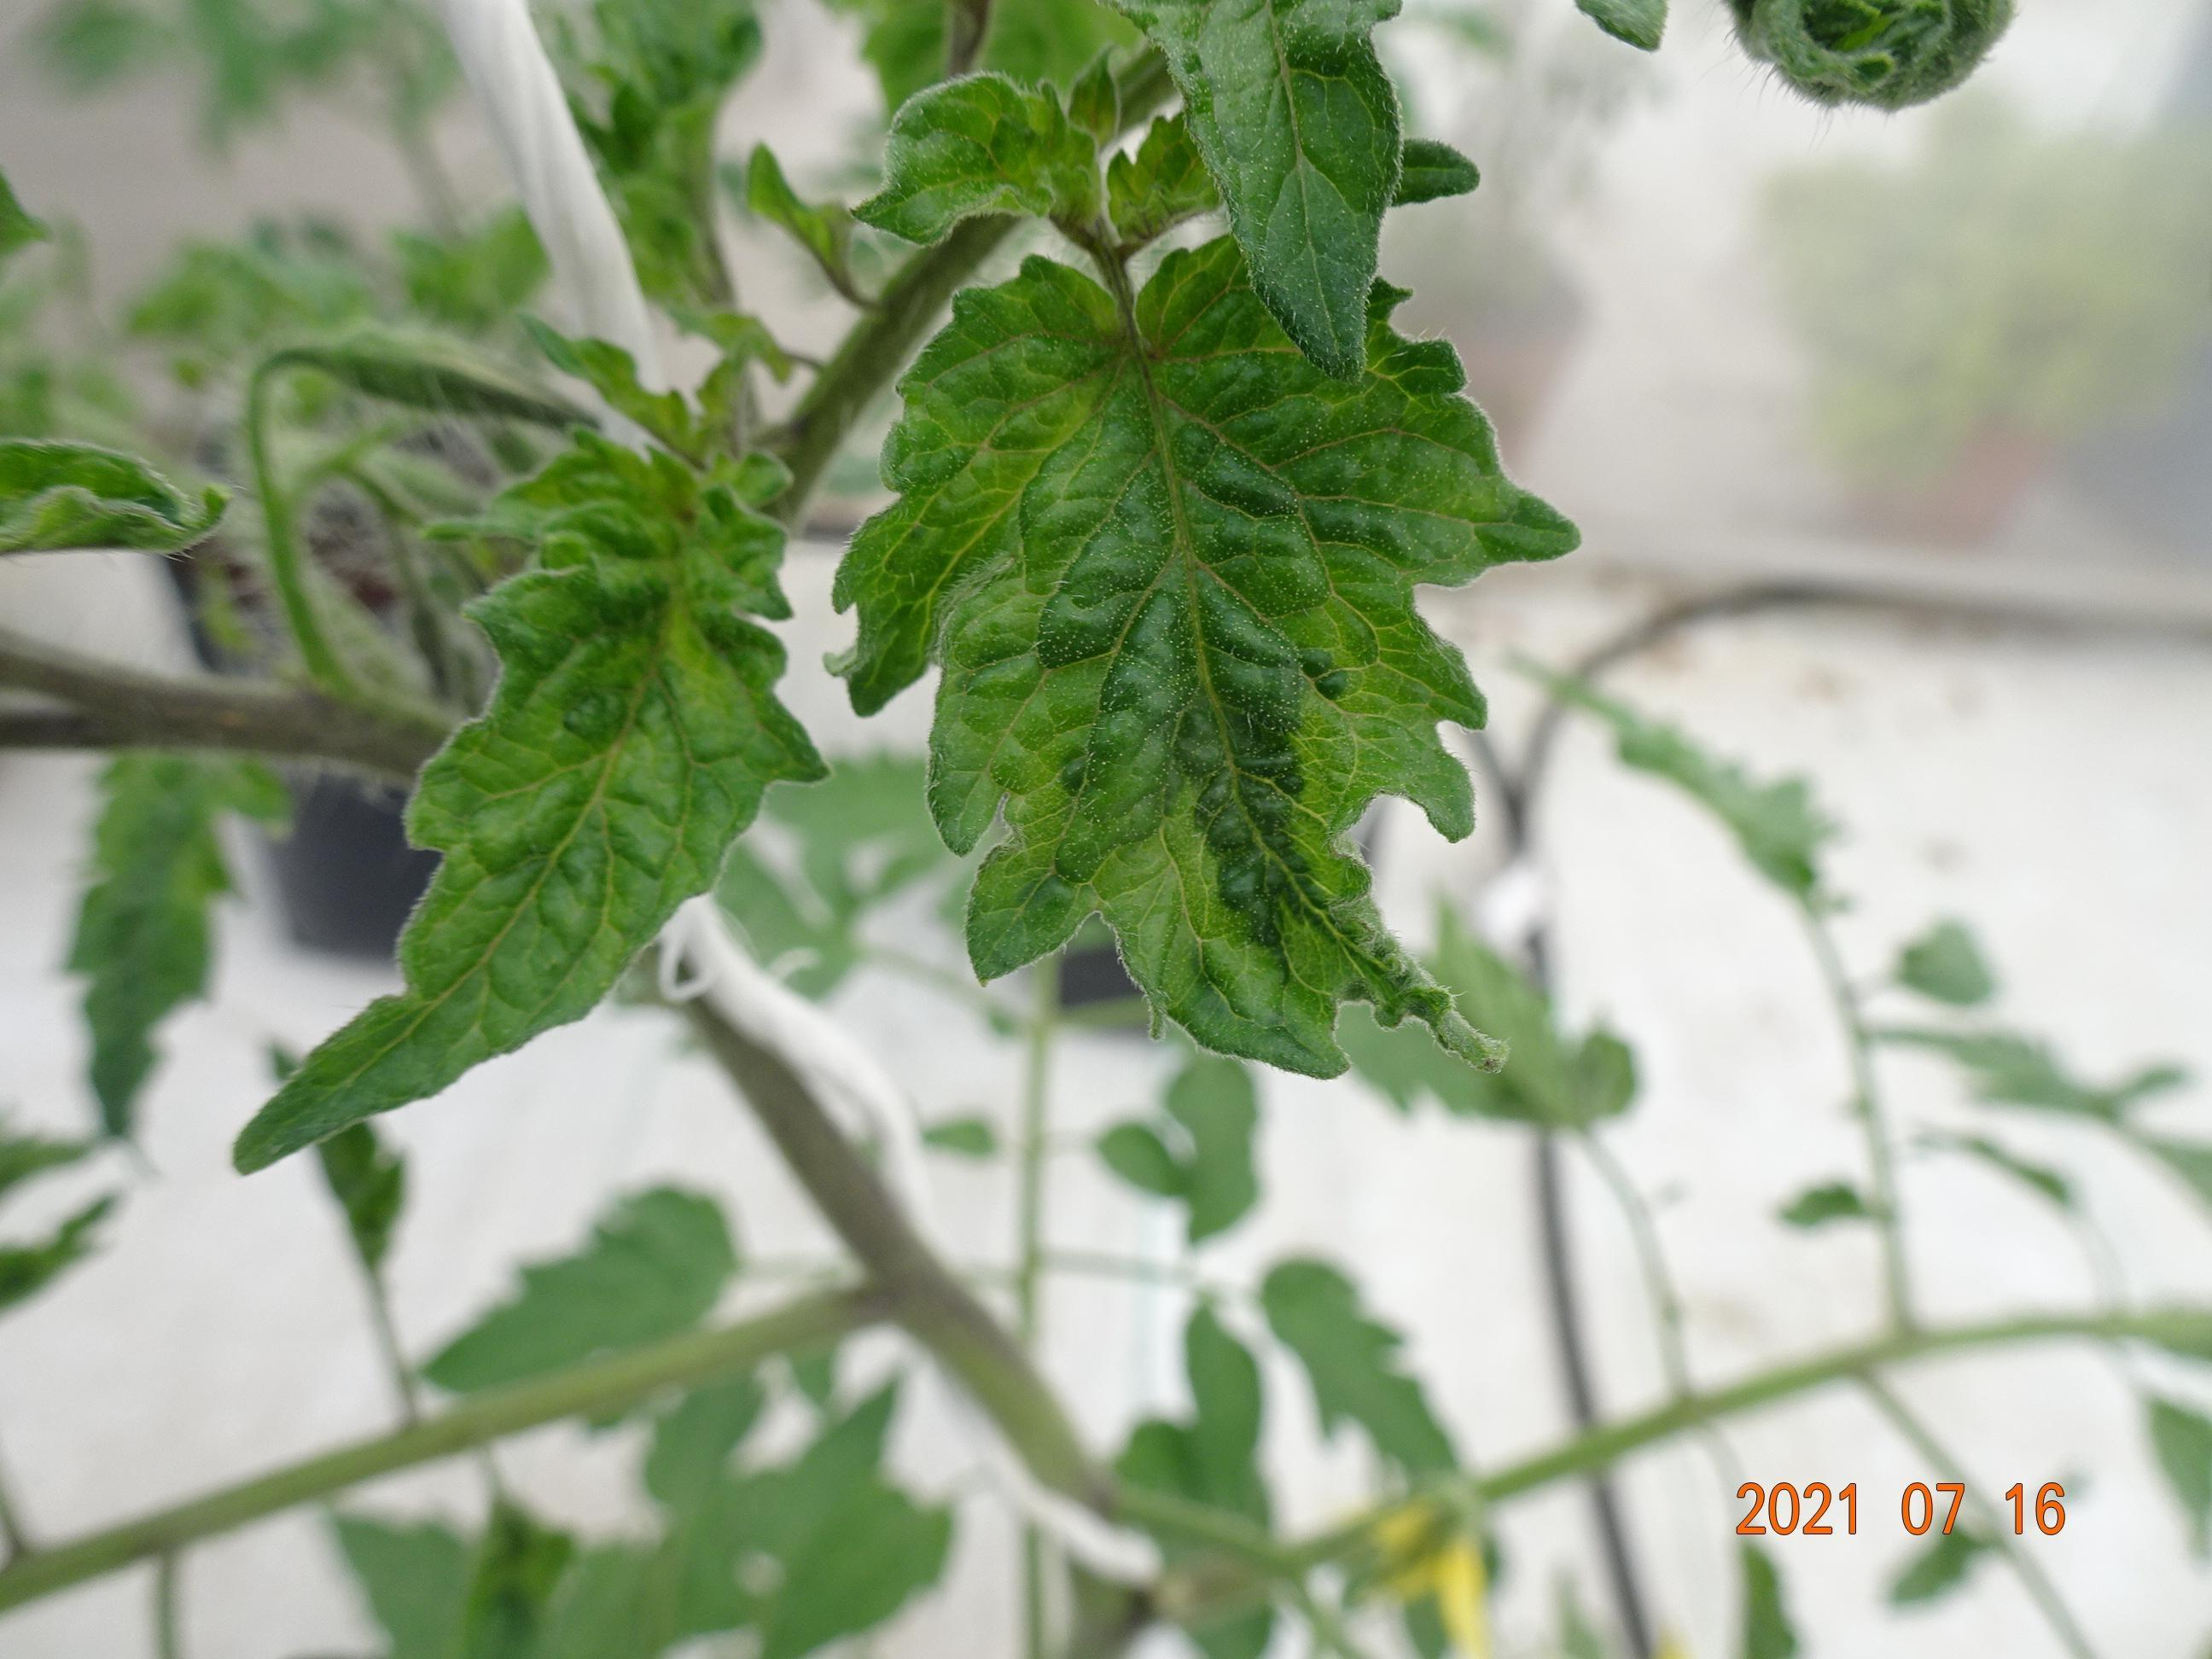Hoja: (1120, 0, 1404, 380), (855, 68, 1099, 240), (1730, 0, 2017, 106), (0, 436, 226, 552)
Hoja rugoso: (836, 234, 1576, 1075), (232, 429, 820, 1169)
